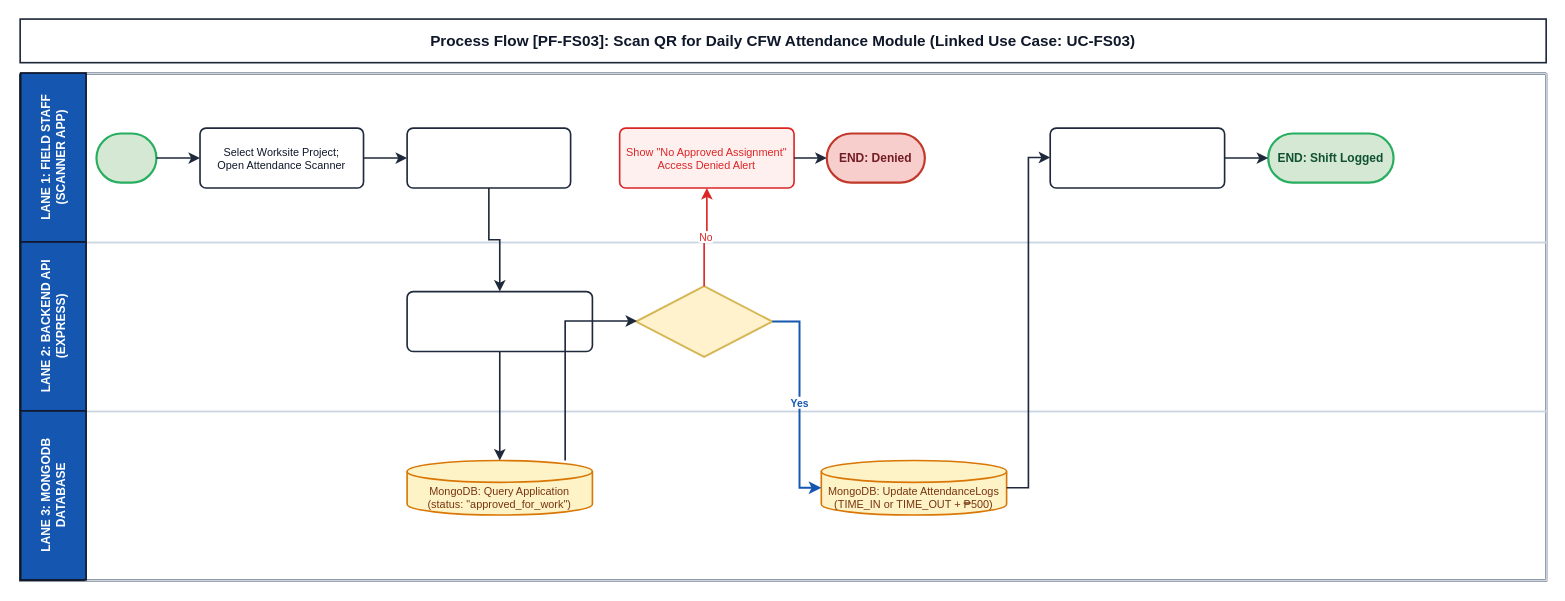
This 1565x601 diagram has some shape labels left out. Here are the shapes that lost their labels. From the top down, the centre of each, then its label:
point 126,157: START
point 488,157: Scan Worker Voucher / Household QR Pass
point 1137,157: Display "Attendance Verified" Day X of 10 Completed
point 499,321: POST /api/cash-for-work/attendance/scan { qrCode, projectId }
point 703,321: Worker Authorized?
